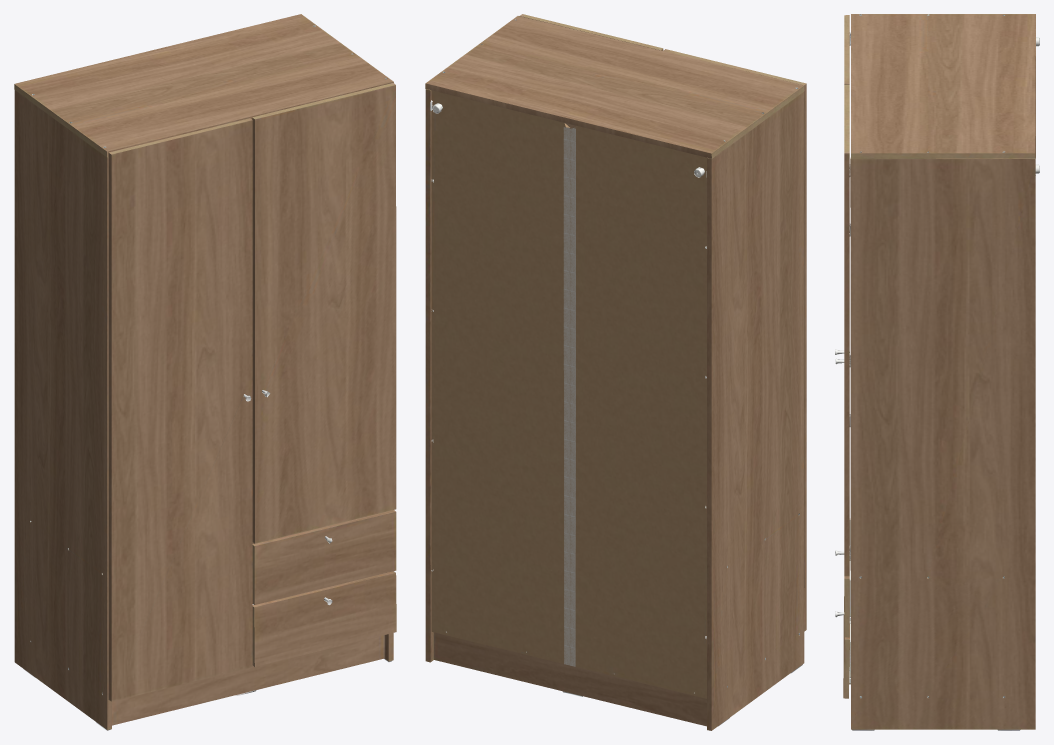
The model's file is vilhatten_szafa_2_drzwi_i_2_szuflady_70530609.glb.
3 views of the same model, side by side, from view 1: azimuth 30°, elevation 25°; view 2: azimuth 150°, elevation 25°; view 3: azimuth 270°, elevation 25° (orthographic).
Parts seen in each view (by area): view 1: vilhatten_szafa_2_drzwi_i_2_szuflady_70530609; view 2: vilhatten_szafa_2_drzwi_i_2_szuflady_70530609; view 3: vilhatten_szafa_2_drzwi_i_2_szuflady_70530609.
Boxes of the visible parts, x1,y1,x2,y2 form: vilhatten_szafa_2_drzwi_i_2_szuflady_70530609: [14, 14, 396, 730]; vilhatten_szafa_2_drzwi_i_2_szuflady_70530609: [425, 14, 806, 730]; vilhatten_szafa_2_drzwi_i_2_szuflady_70530609: [835, 14, 1039, 730].
Bounding box in the file's own units: 0.9804 × 1.9 × 0.6082.
2 materials, 2 textured.
